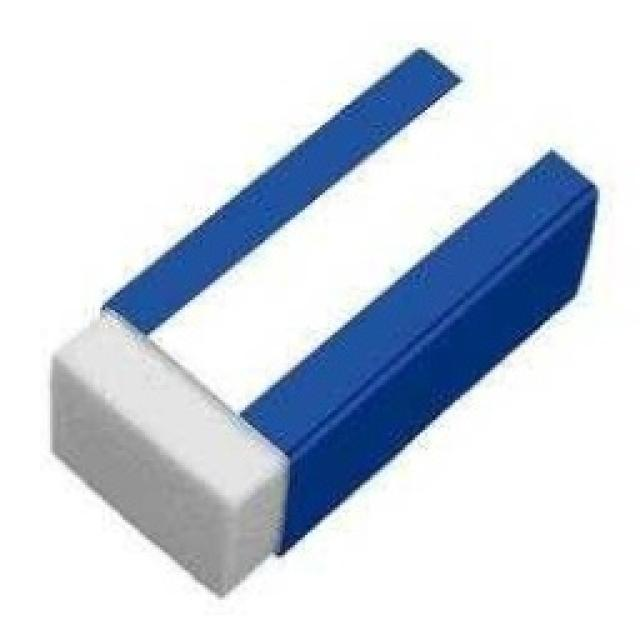Silgi: (44, 45, 602, 596)
